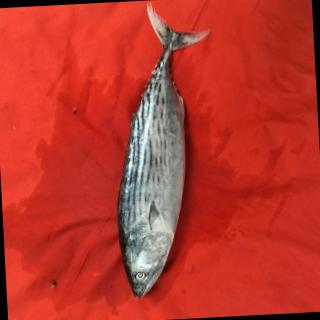Ikan: (95, 5, 200, 305)
